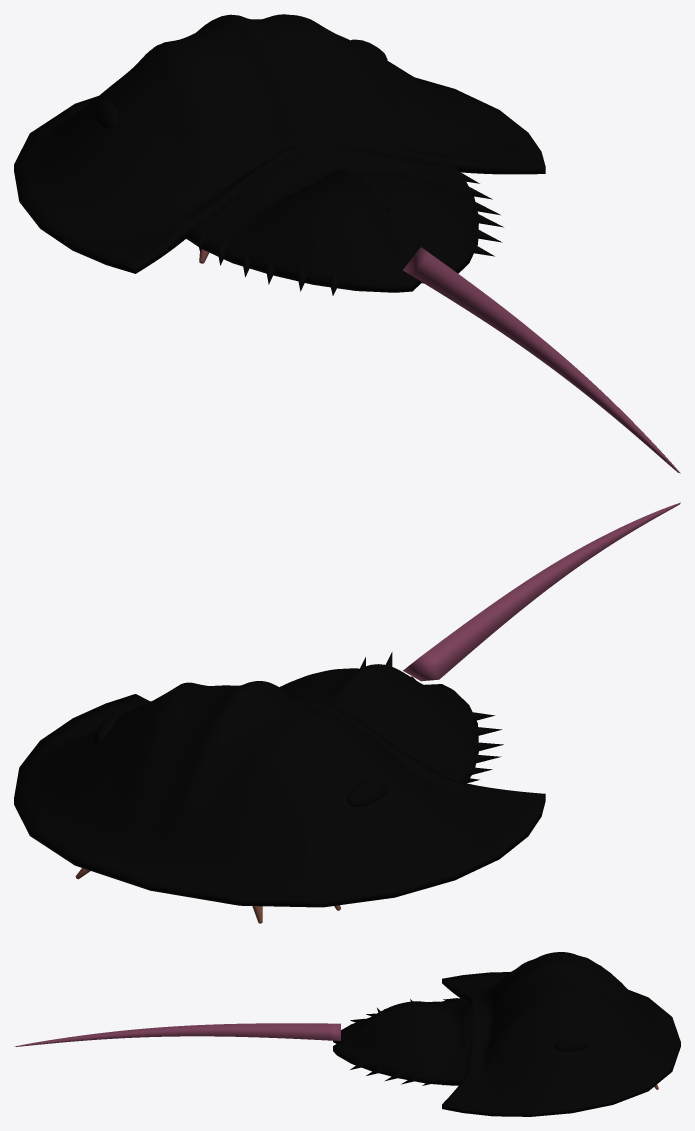
Rendered from horseshoe_crab.glb.
The picture shows the model from 3 angles, top to bottom: view 1: azimuth 30°, elevation 25°; view 2: azimuth 150°, elevation 25°; view 3: azimuth 270°, elevation 25°; orthographic projection. The views are drawn at different scales.
Visible parts, largest first — view 1: horseshoe_crab; view 2: horseshoe_crab; view 3: horseshoe_crab.
Part boxes in pixels (<box>): horseshoe_crab: <box>14,14,680,473</box>; horseshoe_crab: <box>14,502,680,923</box>; horseshoe_crab: <box>14,952,680,1116</box>.
Size of the model in its own units: 0.251 by 0.083 by 0.502.
